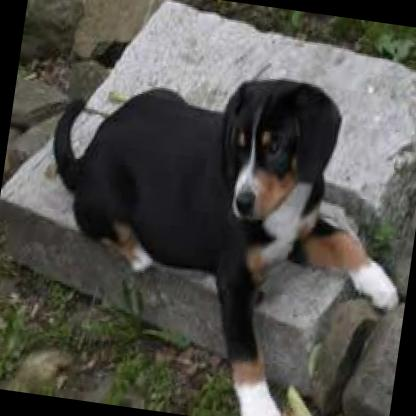EntleBucher: (16, 47, 416, 416)
